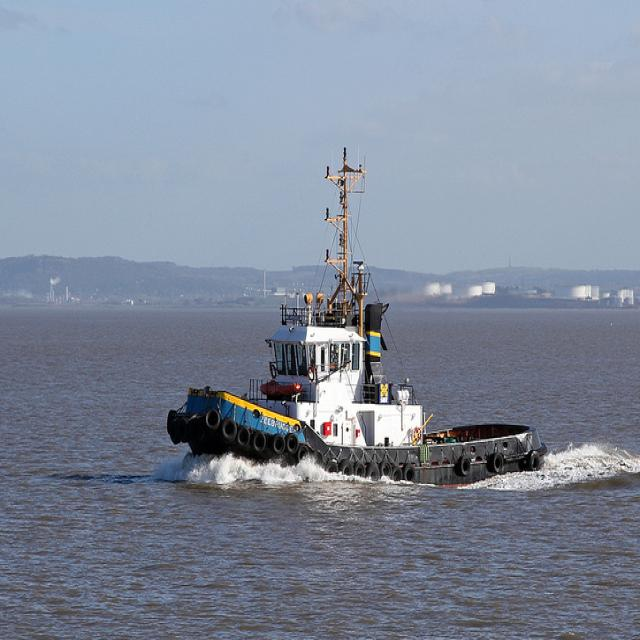fishing boat: (168, 159, 536, 487)
